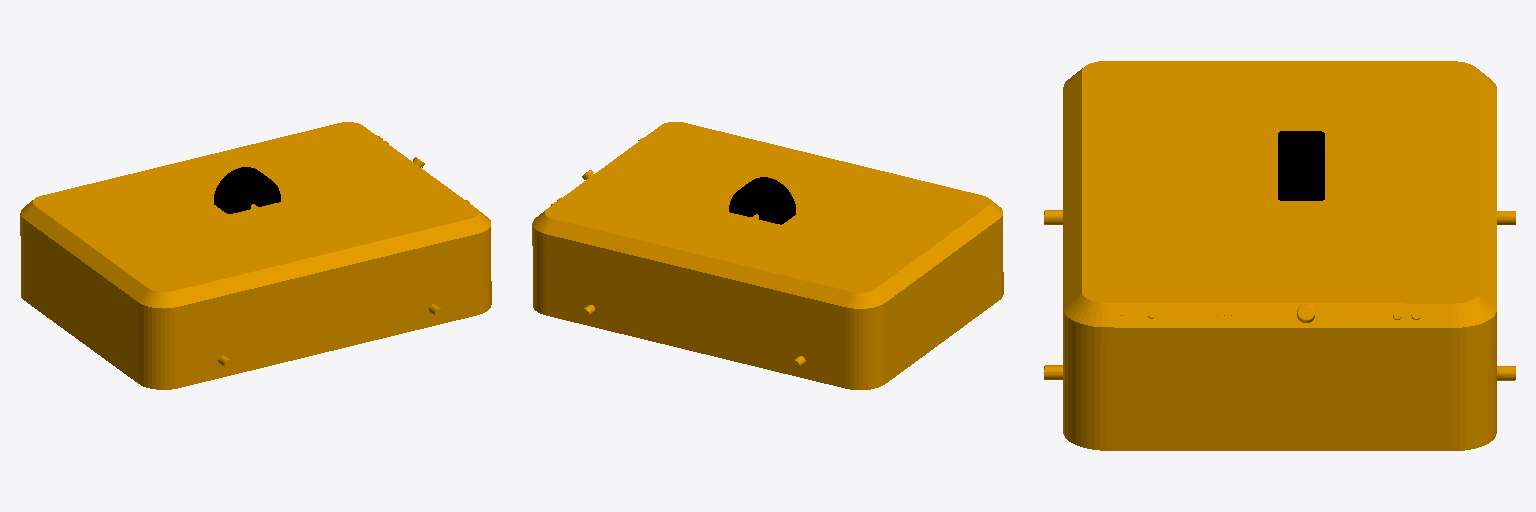
URDF robot description (Differential_Drive_Bot):
<?xml version = "1.0" ?>
<robot name = "Differential_Drive_Bot">

    <!-- /////////////////////   Chassis   //////////////////////////////////// -->
    <link name = "chassis">
        <visual>
            <origin rpy = "3.14 0 0" xyz = "0 0 0"/>
            <geometry>
                <mesh filename="package://mobilebot_description/meshes/mobile_base.dae" />
            </geometry>
        </visual>
    </link>

    <!-- /////////////////////////     Wheels     ///////////////////////////////-->
    <!--    Right Back Wheel-->
    <link name = "right_back_wheel">
        <visual>
            <origin rpy="1.57 0 0" xyz ="0 0 0"/>
            <geometry>
                <mesh filename="package://mobilebot_description/meshes/wheel_mobile_base.dae" />
            </geometry>
            <material name = "Black">
                <color rgba = "0 0 0 1"/>
            </material>
        </visual>
    </link>

    <joint name = "right_back_wheel_joint" type = "continuous">
        <parent link = "chassis"/>
        <child link = "right_back_wheel"/>
        <origin rpy = '0 0 0' xyz="-0.505 -0.67 -0.35"/>
        <axis xyz = "0 1 0"/>
        <limit effort = "100" velocity = "100"/>
        <dynamics damping = "0.0" friction = "0.0"/>
    </joint>

    <!--    Right Front Wheel-->
    <link name = "right_front_wheel">
        <visual>
            <origin rpy="1.57 0 0" xyz ="0 0 0"/>
            <geometry>
                <mesh filename="package://mobilebot_description/meshes/wheel_mobile_base.dae" />
            </geometry>
            <material name = "Black">
                <color rgba = "0 0 0 1"/>
            </material>
        </visual>
    </link>

    <joint name = "right_front_wheel_joint" type = "continuous">
        <parent link = "chassis"/>
        <child link = "right_front_wheel"/>
        <origin rpy = '0 0 0' xyz="0.505 -0.67 -0.35"/>
        <axis xyz = "0 1 0"/>
        <limit effort = "100" velocity = "100"/>
        <dynamics damping = "0.0" friction = "0.0"/>
    </joint>

    <!--   Left Back Wheel-->
    <link name = "left_back_wheel">
        <visual>
            <origin rpy="1.57 0 0" xyz ="0 0 0"/>
            <geometry>
                <mesh filename="package://mobilebot_description/meshes/wheel_mobile_base.dae" />
            </geometry>
            <material name = "Black">
                <color rgba = "0 0 0 1"/>
            </material>
        </visual>
    </link>

    <joint name = "left_back_wheel_joint" type = "continuous">
        <parent link = "chassis"/>
        <child link = "left_back_wheel"/>
        <origin xyz="-0.505 0.67 -0.35" rpy = "0 0 0" />
        <axis xyz = "0 1 0"/>
        <limit effort = "100" velocity = "100"/>
        <dynamics damping = "0.0" friction = "0.0"/>
    </joint>

    <!--    Left Front Wheel-->
    <link name = "left_front_wheel">
        <visual>
            <origin rpy="1.57 0 0" xyz ="0 0 0"/>
            <geometry>
                <mesh filename="package://mobilebot_description/meshes/wheel_mobile_base.dae" />
            </geometry>
            <material name = "Black">
                <color rgba = "0 0 0 1"/>
            </material>
        </visual>
    </link>

    <joint name = "left_front_wheel_joint" type = "continuous">
        <parent link = "chassis"/>
        <child link = "left_front_wheel"/>
        <origin rpy = '0 0 0' xyz="0.505 0.67 -0.35"/>
        <axis xyz = "0 1 0"/>
        <limit effort = "100" velocity = "100"/>
        <dynamics damping = "0.0" friction = "0.0"/>
    </joint>

</robot>

--- Render facts (derived) ---
Views: 3 orthographic renders of the robot side by side, from view 1: azimuth 30°, elevation 25°; view 2: azimuth 150°, elevation 25°; view 3: azimuth 270°, elevation 25°.
Robot: Differential_Drive_Bot — 5 links, 4 joints (4 continuous); root link chassis; default pose: every joint at zero.
Visible links, largest first — view 1: chassis, right_back_wheel, left_back_wheel; view 2: chassis, left_back_wheel, left_front_wheel; view 3: chassis, left_front_wheel.
Boxes of the visible links, x1,y1,x2,y2 form: chassis: (20, 122, 491, 389); right_back_wheel: (214, 177, 279, 213); left_back_wheel: (214, 168, 258, 211); chassis: (532, 122, 1003, 389); left_back_wheel: (730, 178, 795, 224); left_front_wheel: (729, 177, 778, 219); chassis: (1044, 61, 1515, 450); left_front_wheel: (1282, 136, 1324, 200).
Bounding box of the posed robot: 1669 × 1282 × 557 m (x, y, z).
Meshes: 2 distinct files referenced, 5 mesh visuals loaded (2 Collada DAE).